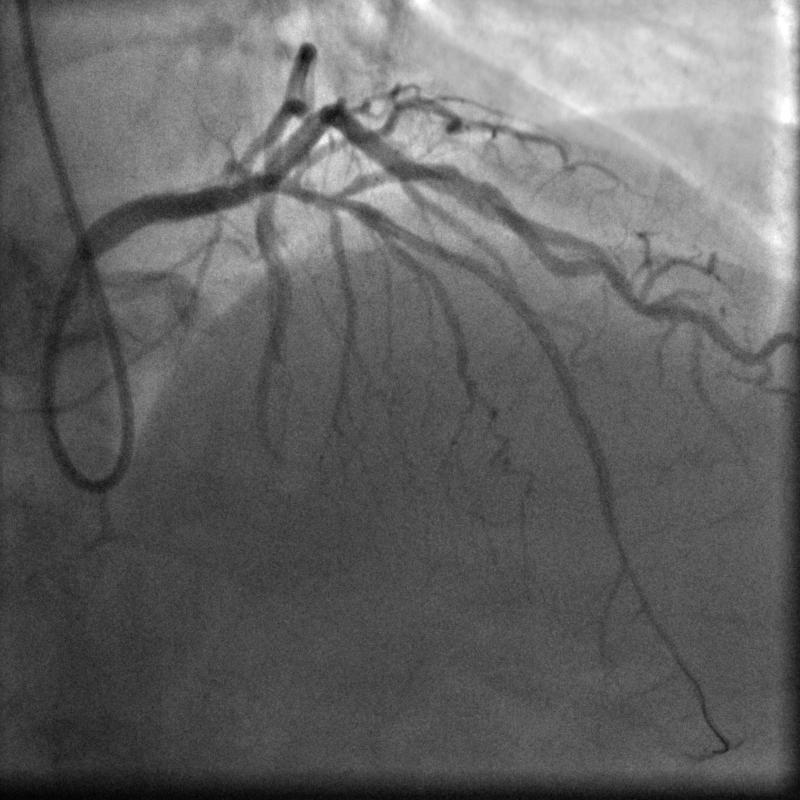Stenosis: (444, 160, 492, 208)
